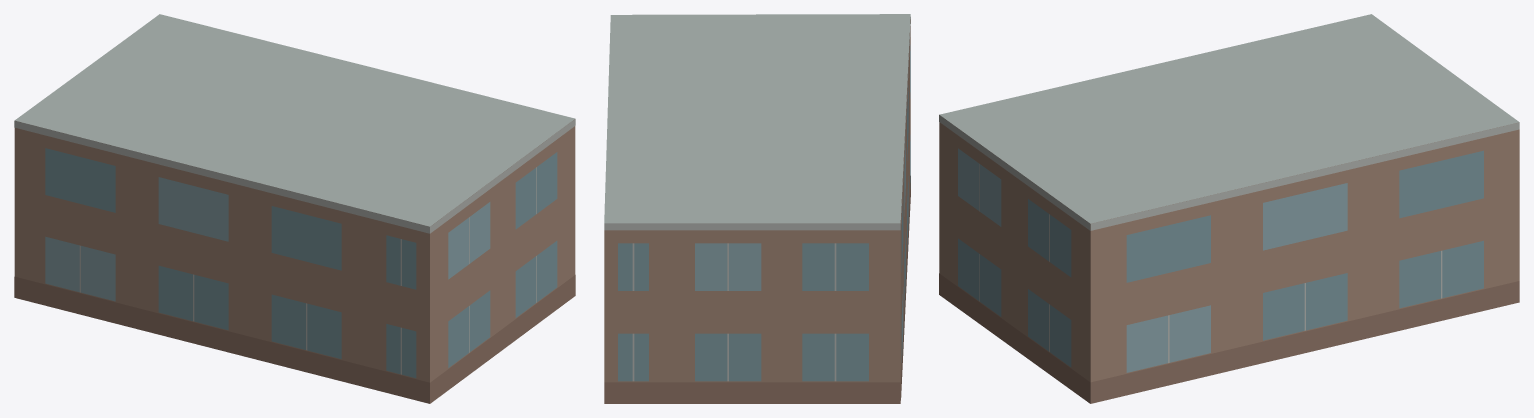
The model's file is survey-upis-32721958.glb.
The picture shows the model from 3 angles, left to right: view 1: azimuth 30°, elevation 25°; view 2: azimuth 150°, elevation 25°; view 3: azimuth 270°, elevation 25°; orthographic projection.
Visible parts, largest first — view 1: survey-upis-32721958.tmp; view 2: survey-upis-32721958.tmp; view 3: survey-upis-32721958.tmp.
Part boxes in pixels (x1,y1,x2,y2): survey-upis-32721958.tmp: (14, 14, 575, 403); survey-upis-32721958.tmp: (604, 14, 910, 403); survey-upis-32721958.tmp: (939, 14, 1519, 403).
Bounding box in the file's own units: 15.24 × 6.1 × 17.82.
